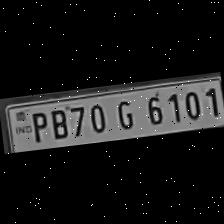0: (83, 98, 110, 134), (178, 86, 202, 121)
1: (199, 83, 222, 117), (161, 88, 182, 123)
6: (139, 90, 166, 127)
7: (65, 100, 88, 136)
B: (46, 104, 70, 139)
G: (109, 93, 137, 130)
P: (26, 106, 48, 142)
